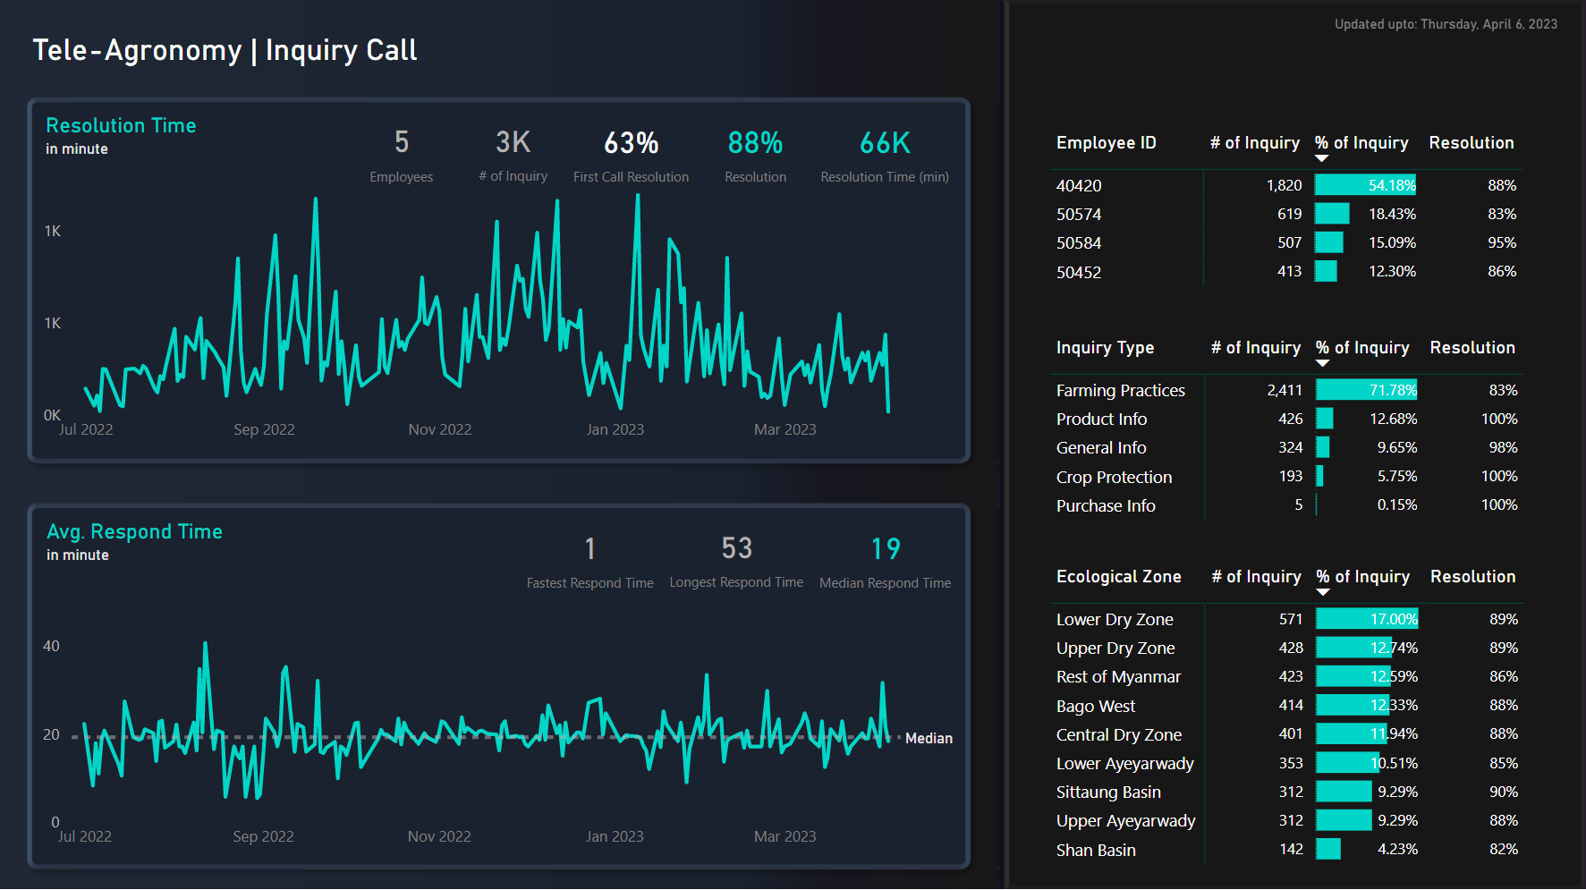

What the dashboard file says about the page in this screenshot:
{"tool":"powerbi","page":{"name":"Tele-Agronomy | Inquiry Call","canvas":[1280,720],"ordinal":2},"visuals":[{"type":"image","box":[0,0,1279.9,720],"z":0},{"type":"textbox","box":[36.7,90.3,147.6,56.3],"z":1000},{"type":"textbox","box":[25.9,25.9,418.6,38.5],"z":2000},{"type":"lineChart","fields":{"Y":["Sum(Inquiry Data [Hotline].Resolution Time (min))"],"Category":["Master Data [Business Calendar].Date"]},"box":[34.1,146.6,711.4,220.4],"z":3000},{"type":"card","fields":{"Values":["Measures for Hotline.# of Inquiry (Hotline)"]},"box":[364.2,90.3,100.7,69.4],"z":4000},{"type":"card","fields":{"Values":["Measures for Hotline.Resolution Rate (Hotline)"]},"box":[552.6,90.2,111.4,69.5],"z":5000},{"type":"lineChart","fields":{"Y":["Median(Inquiry Data [Hotline].Resolution Time (min))"],"Category":["Master Data [Business Calendar].Date"]},"box":[34.1,471.1,711.4,220.4],"z":6000},{"type":"pivotTable","fields":{"Rows":["Inquiry Data [Hotline].Employee ID"],"Values":["Measures for Hotline.# of Inquiry (Hotline)","Divide(Measures for Hotline.# of Inquiry (Hotline), ScopedEval(Measures for Hotline.# of Inquiry (Hotline), [Role.Column","Measures for Hotline.Resolution Rate (Hotline)"]},"box":[838.6,102.6,403.9,154.5],"z":7000},{"type":"card","fields":{"Values":["Sum(Inquiry Data [Hotline].Resolution Time (min))"]},"box":[652.4,90,119,69.8],"z":8000},{"type":"card","fields":{"Values":["Count(Inquiry Data [Hotline].Employee ID)"]},"box":[274.9,89.1,100.9,70.6],"z":9000},{"type":"card","fields":{"Values":["Visualization Measures.Date_UpdatedUpto"]},"box":[1052.7,10.7,213.8,29.5],"z":10000},{"type":"textbox","box":[36.9,414.4,161.8,56.8],"z":11000},{"type":"textbox","box":[722.8,579,56.8,28.4],"z":12000},{"type":"card","fields":{"Values":["Max(Inquiry Data [Hotline].Resolution Time (min))"]},"box":[533.7,414.4,119.2,69.1],"z":13000},{"type":"card","fields":{"Values":["Median(Inquiry Data [Hotline].Resolution Time (min))"]},"box":[651.3,414.4,121.1,70],"z":14000},{"type":"card","fields":{"Values":["Min(Inquiry Data [Hotline].Resolution Time (min))"]},"box":[419.1,414.4,114.5,70],"z":15000},{"type":"pivotTable","fields":{"Rows":["Inquiry Data [Hotline].Inquiry Type"],"Values":["Measures for Hotline.# of Inquiry (Hotline)","Divide(Measures for Hotline.# of Inquiry (Hotline), ScopedEval(Measures for Hotline.# of Inquiry (Hotline), [Role.Column","Measures for Hotline.Resolution Rate (Hotline)"]},"box":[838.6,266.5,403.9,173.2],"z":16000},{"type":"pivotTable","fields":{"Values":["Measures for Hotline.# of Inquiry (Hotline)","Divide(Measures for Hotline.# of Inquiry (Hotline), ScopedEval(Measures for Hotline.# of Inquiry (Hotline), [Role.Column","Measures for Hotline.Resolution Rate (Hotline)"],"Rows":["Master Data [Ecological Zones].Ecological Zone"]},"box":[838.6,449.1,403.9,263.7],"z":17000},{"type":"card","fields":{"Values":["Measure for Inquiry.First Contact Resolution Rate"]},"box":[453.2,90.4,111,69.4],"z":18000}]}

Visuals, with their boxes in screenshot pixels (x1, y1, x2, y2), scaled from the page's 1280x720 canvas onto the 1586x890 screenshot:
image: bbox=[0, 0, 1585, 889]
textbox: bbox=[45, 112, 228, 181]
textbox: bbox=[32, 32, 551, 80]
lineChart - Sum(Inquiry Data [Hotline].Resolution Time (min)) x Master Data [Business Calendar].Date: bbox=[42, 181, 924, 454]
card - Measures for Hotline.# of Inquiry (Hotline): bbox=[451, 112, 576, 197]
card - Measures for Hotline.Resolution Rate (Hotline): bbox=[685, 111, 823, 197]
lineChart - Median(Inquiry Data [Hotline].Resolution Time (min)) x Master Data [Business Calendar].Date: bbox=[42, 582, 924, 855]
pivotTable - Inquiry Data [Hotline].Employee ID x Measures for Hotline.# of Inquiry (Hotline): bbox=[1039, 127, 1540, 318]
card - Sum(Inquiry Data [Hotline].Resolution Time (min)): bbox=[808, 111, 956, 198]
card - Count(Inquiry Data [Hotline].Employee ID): bbox=[341, 110, 466, 197]
card - Visualization Measures.Date_UpdatedUpto: bbox=[1304, 13, 1569, 50]
textbox: bbox=[46, 512, 246, 582]
textbox: bbox=[896, 716, 966, 751]
card - Max(Inquiry Data [Hotline].Resolution Time (min)): bbox=[661, 512, 809, 598]
card - Median(Inquiry Data [Hotline].Resolution Time (min)): bbox=[807, 512, 957, 599]
card - Min(Inquiry Data [Hotline].Resolution Time (min)): bbox=[519, 512, 661, 599]
pivotTable - Inquiry Data [Hotline].Inquiry Type x Measures for Hotline.# of Inquiry (Hotline): bbox=[1039, 329, 1540, 544]
pivotTable - Measures for Hotline.# of Inquiry (Hotline) x Divide(Measures for Hotline.# of Inquiry (Hotline), ScopedEval(Measures for Hotline.# of Inquiry (Hotline), [Role.Column: bbox=[1039, 555, 1540, 881]
card - Measure for Inquiry.First Contact Resolution Rate: bbox=[562, 112, 699, 198]
